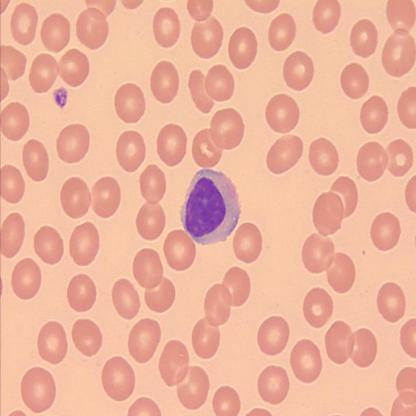Atypical lymphocyte: (181, 168, 241, 244)
